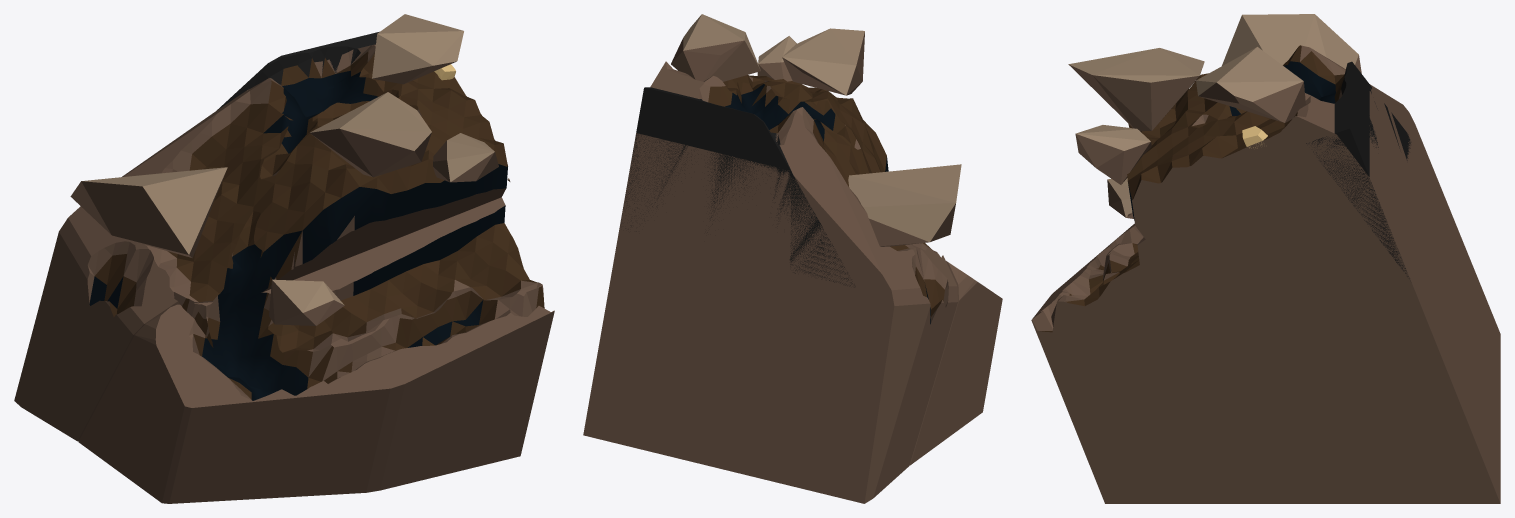
Rendered from rock_column_bl_wreck.glb.
The picture shows the model from 3 angles, left to right: view 1: azimuth 30°, elevation 25°; view 2: azimuth 150°, elevation 25°; view 3: azimuth 270°, elevation 25°; orthographic projection. The views are drawn at different scales.
Parts seen in each view (by area): view 1: rock_column_bl_wreck; view 2: rock_column_bl_wreck; view 3: rock_column_bl_wreck.
Boxes of the visible parts, <box> form: rock_column_bl_wreck: <box>14,14,554,503</box>; rock_column_bl_wreck: <box>583,14,1002,503</box>; rock_column_bl_wreck: <box>1031,14,1500,503</box>.
Size of the model in its own units: 23.74 by 25.76 by 26.15.
